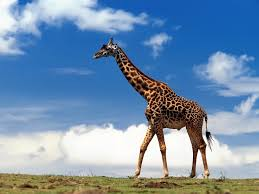Jirafa: (78, 26, 183, 120)
